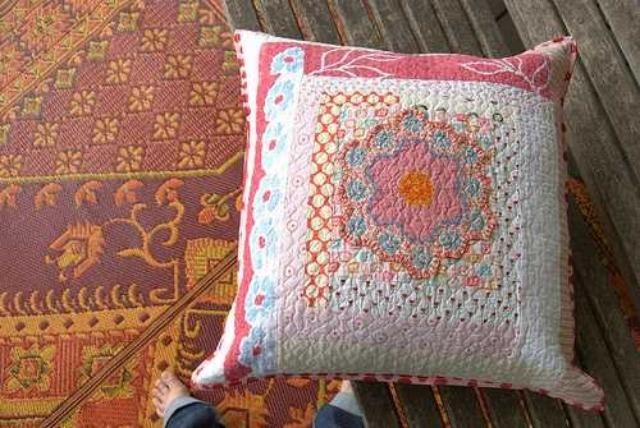pillow: (188, 28, 606, 412)
